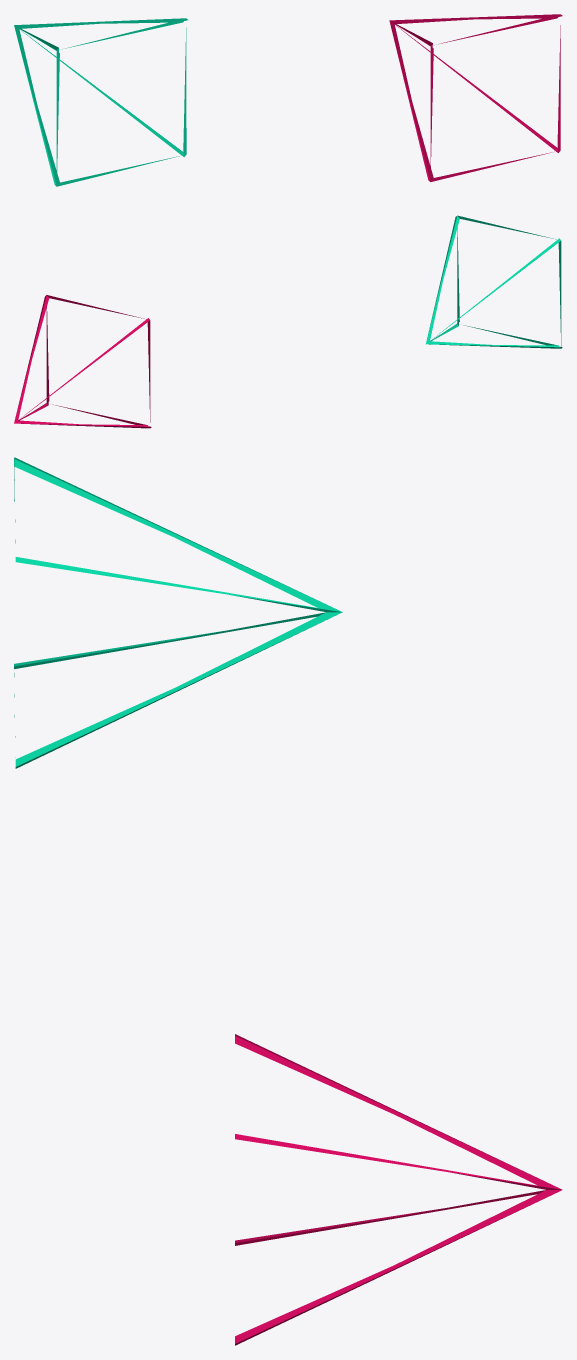
File: glbscene_50_All_maskbFalse_maskwFalse_camTrue_skyFalse_predDepthmap_and_Camera_Branch.glb
3 views of the same model, one above another, from view 1: azimuth 30°, elevation 25°; view 2: azimuth 150°, elevation 25°; view 3: azimuth 270°, elevation 25° (orthographic). The views are drawn at different scales.
Parts seen in each view (by area): view 1: world; view 2: world; view 3: world.
Boxes of the visible parts, box(x1,y1,x2,y2) form: world: box(14, 14, 562, 186); world: box(14, 215, 562, 428); world: box(14, 457, 562, 1345).
Size of the model in its own units: 0.2467 by 0.1209 by 0.1311.
